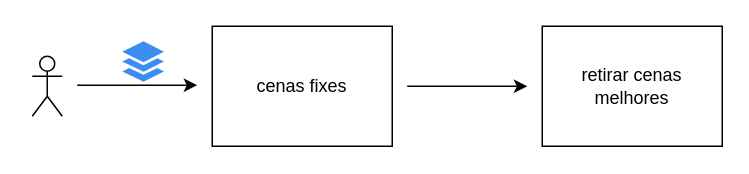
Some shapes in this 749 by 174 pixel diagram are drawn without their labels. Here are the shapes that lost their labels. From the top down, the centre of each, then its label:
[142,60]: files
[46,85]: Actor
